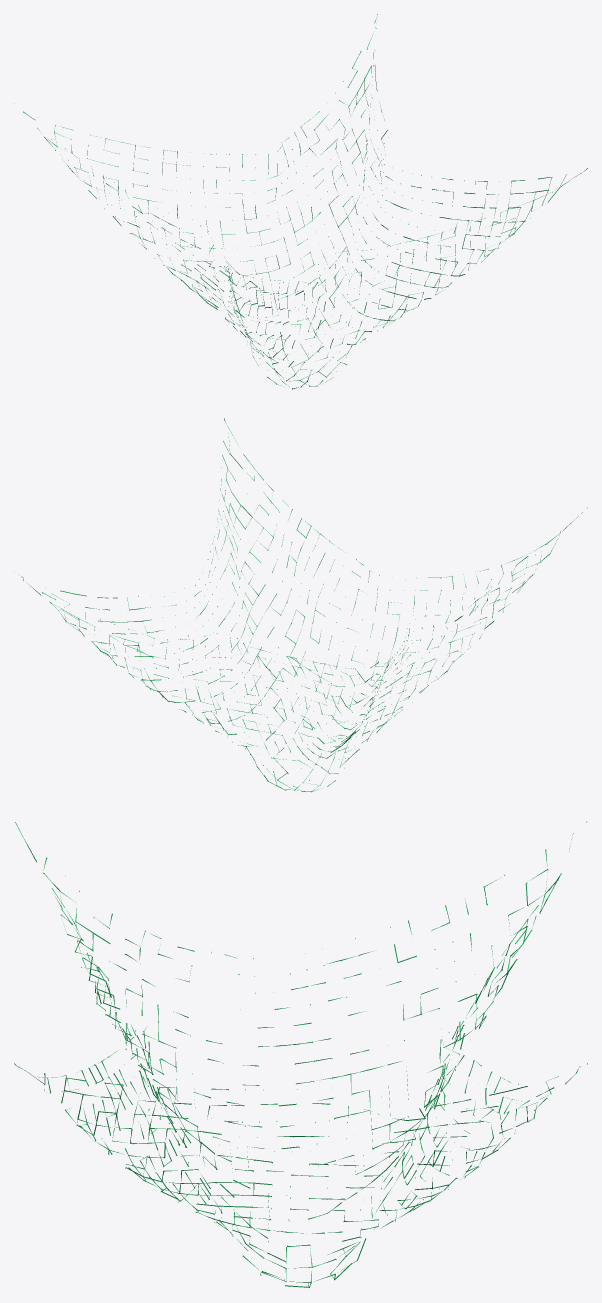
File: fishing_net.glb
The picture shows the model from 3 angles, top to bottom: view 1: azimuth 30°, elevation 25°; view 2: azimuth 150°, elevation 25°; view 3: azimuth 270°, elevation 25°; orthographic projection. The views are drawn at different scales.
Size of the model in its own units: 401 by 262 by 401.
